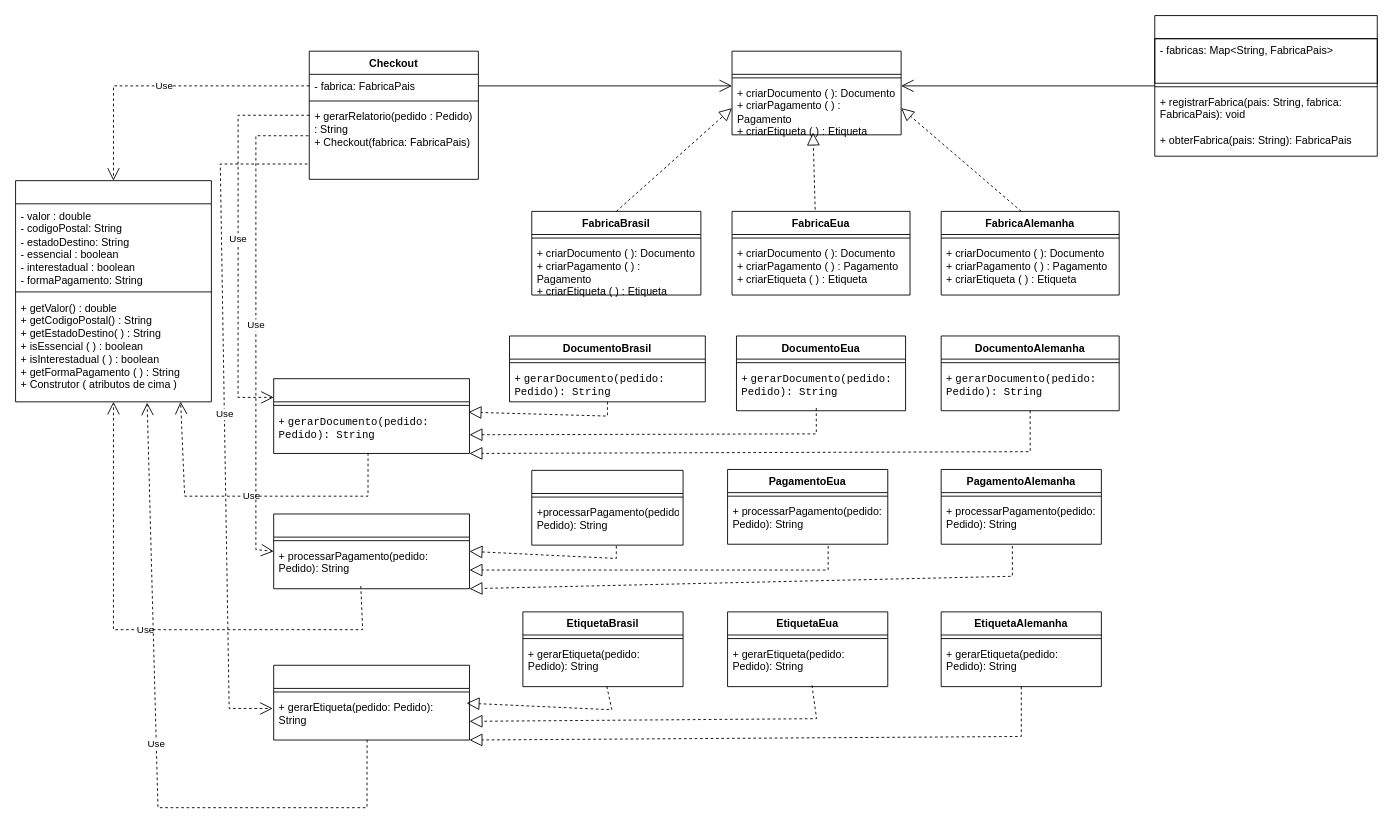
Some shapes in this 1393 by 836 pixel diagram are drawn without their labels. Each missing label, with the box of its shape:
<<Interface>> Documento: (273, 378, 469, 453)
<<Interface>> Etiqueta: (273, 664, 469, 740)
<<interface>> FabricaPais: (731, 50, 901, 135)
<<Interface>> Pagamento: (273, 513, 469, 589)
PagamentoBrasil: (531, 469, 683, 545)
Pedido: (15, 180, 211, 402)
Seletor: (1154, 15, 1377, 156)
